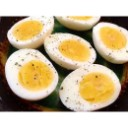begg: (62, 67, 121, 110), (6, 50, 45, 99), (7, 17, 56, 48), (93, 24, 128, 62), (60, 35, 90, 64)
